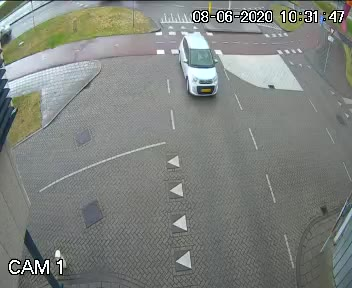car: (172, 33, 224, 109)
